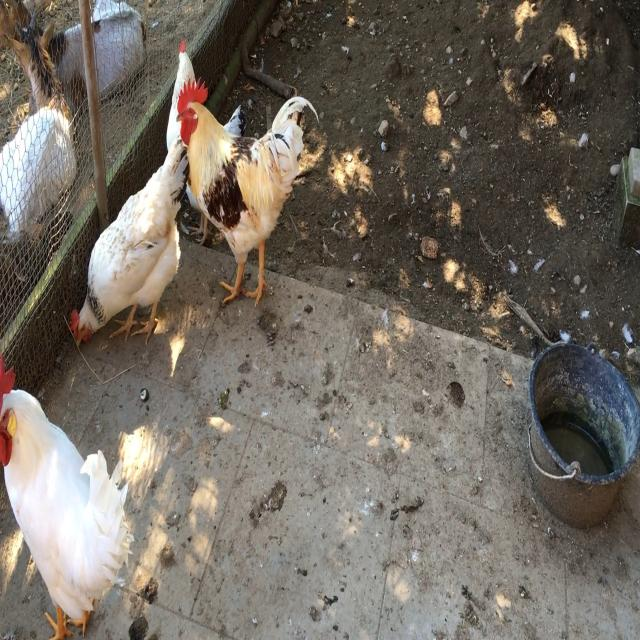chicken: (172, 71, 324, 321), (59, 138, 192, 370)
